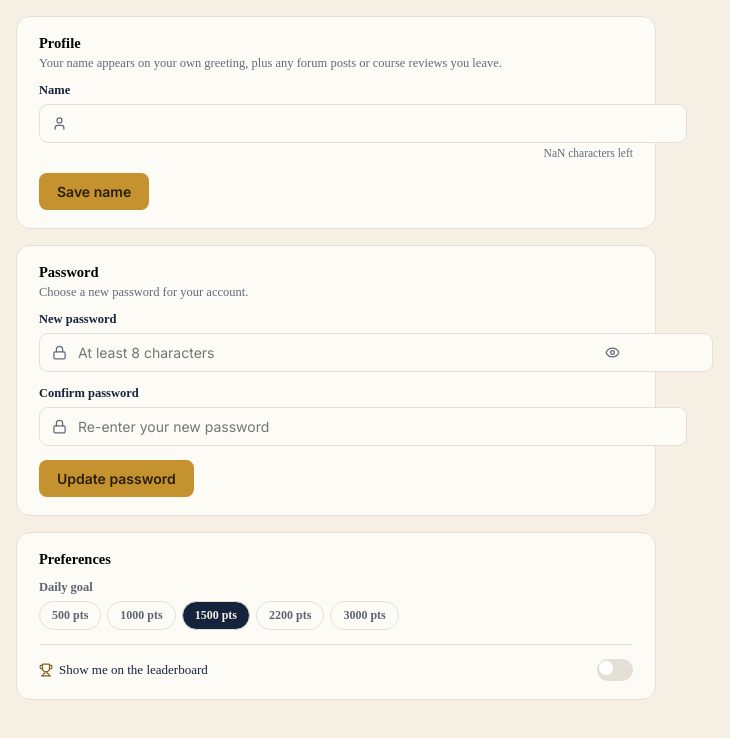
Test case: SettingsScreen — password › shows a validation error for a too-short password on submit
Type "short" into the password field labelled "New password" at (376, 352), box left=39, top=333, right=713, bottom=372
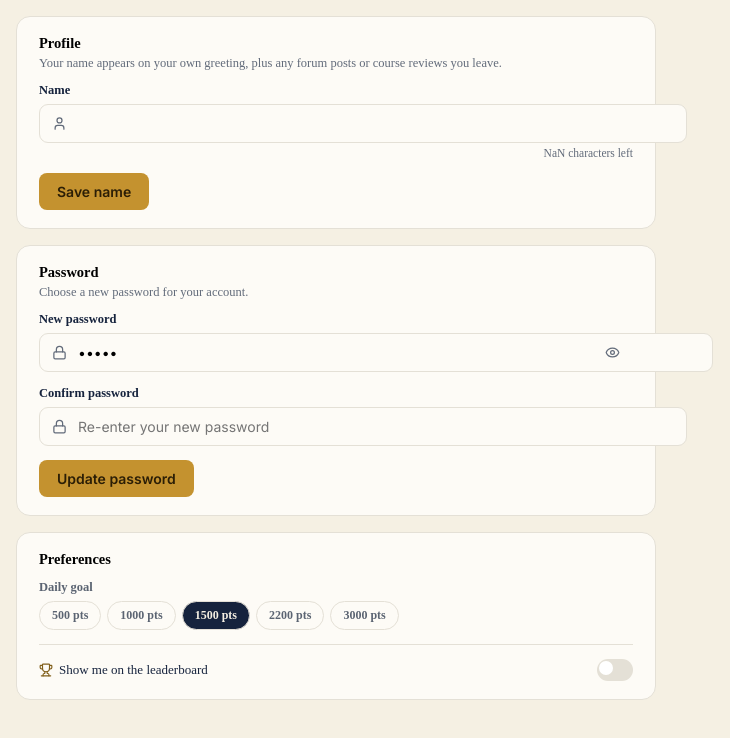
Click the button "Update password" at (116, 478), box left=39, top=460, right=194, bottom=497
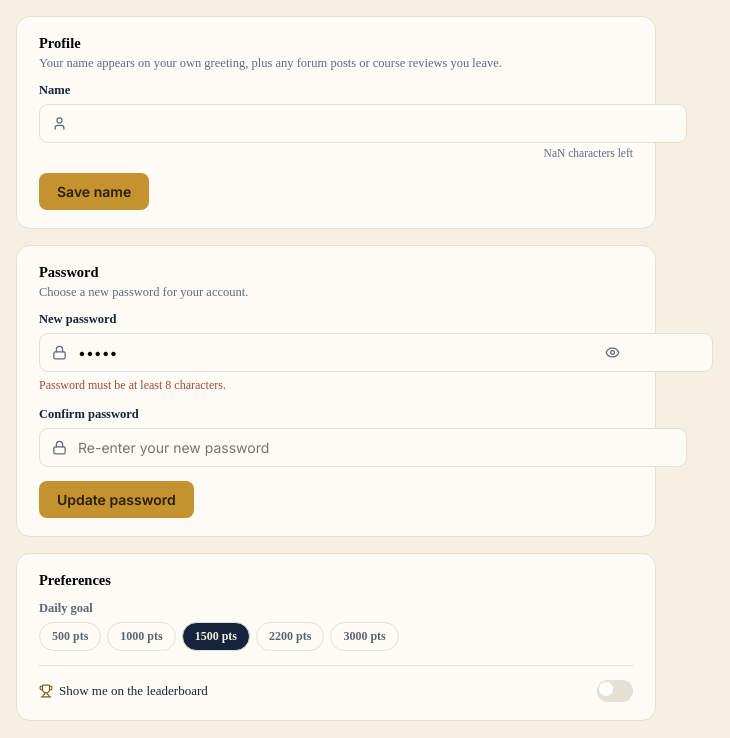
Expected: the text "Password must be at least 8 characters." is shown, left=39, top=378, right=226, bottom=392
